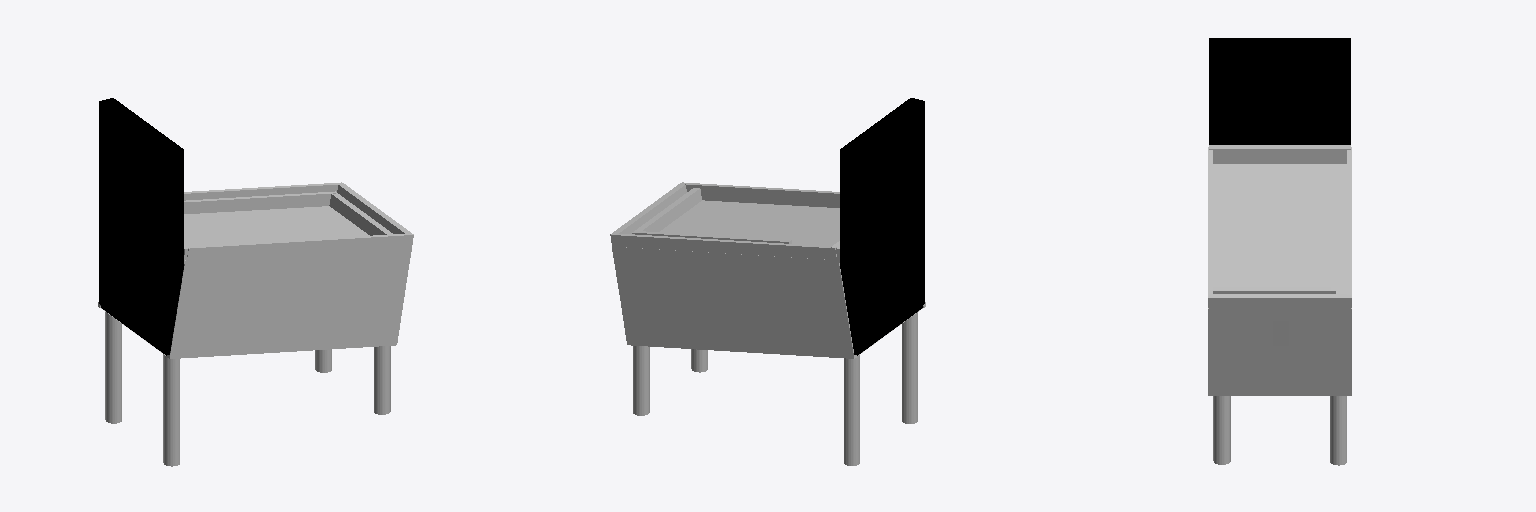
File: pinball.obj
3 renders of one model, left to right at view 1: azimuth 30°, elevation 25°; view 2: azimuth 150°, elevation 25°; view 3: azimuth 270°, elevation 25°, orthographic.
Visible parts, largest first — view 1: Cube.002, Cube.008, Plane, Cube, Cube.007, Cylinder.002, Cylinder.003, Cube.001, Cylinder.001, Cube.006, Cube.004; view 2: Cube.003, Cube.008, Plane, Cube.001, Cube, Cylinder.003, Cylinder.002, Cylinder, Cube.006, Cube.004, Cube.007; view 3: Plane, Cube.008, Cube.005, Cube.009, Cube.004, Cylinder.001, Cylinder, Cube.006, Cube, Cube.001, Cube.007.
Boxes of the visible parts, x1=… form: Cube.002: x1=167, y1=247, x2=411, y2=358; Cube.008: x1=99, y1=98, x2=183, y2=355; Plane: x1=184, y1=206, x2=369, y2=245; Cube: x1=187, y1=233, x2=412, y2=260; Cube.007: x1=184, y1=191, x2=336, y2=213; Cylinder.002: x1=163, y1=354, x2=179, y2=466; Cylinder.003: x1=105, y1=312, x2=121, y2=423; Cube.001: x1=184, y1=182, x2=341, y2=200; Cylinder.001: x1=374, y1=346, x2=390, y2=414; Cube.006: x1=329, y1=193, x2=392, y2=235; Cube.004: x1=337, y1=183, x2=413, y2=244; Cube.003: x1=612, y1=247, x2=856, y2=358; Cube.008: x1=840, y1=98, x2=924, y2=355; Plane: x1=660, y1=200, x2=839, y2=245; Cube.001: x1=611, y1=233, x2=836, y2=259; Cube: x1=682, y1=182, x2=839, y2=205; Cylinder.003: x1=844, y1=355, x2=859, y2=465; Cylinder.002: x1=902, y1=312, x2=917, y2=423; Cylinder: x1=633, y1=346, x2=649, y2=415; Cube.006: x1=635, y1=188, x2=701, y2=231; Cube.004: x1=610, y1=183, x2=686, y2=242; Cube.007: x1=632, y1=231, x2=791, y2=243; Plane: x1=1213, y1=164, x2=1346, y2=293; Cube.008: x1=1209, y1=38, x2=1350, y2=144; Cube.005: x1=1209, y1=312, x2=1350, y2=395; Cube.009: x1=1209, y1=145, x2=1350, y2=163; Cube.004: x1=1209, y1=294, x2=1350, y2=311; Cylinder.001: x1=1213, y1=396, x2=1230, y2=464; Cylinder: x1=1330, y1=396, x2=1346, y2=465; Cube.006: x1=1213, y1=287, x2=1330, y2=293; Cube: x1=1208, y1=147, x2=1212, y2=307; Cube.001: x1=1347, y1=147, x2=1351, y2=307; Cube.007: x1=1331, y1=185, x2=1335, y2=293.
Bounding box in the file's own units: 50.25 × 62.22 × 25.52.